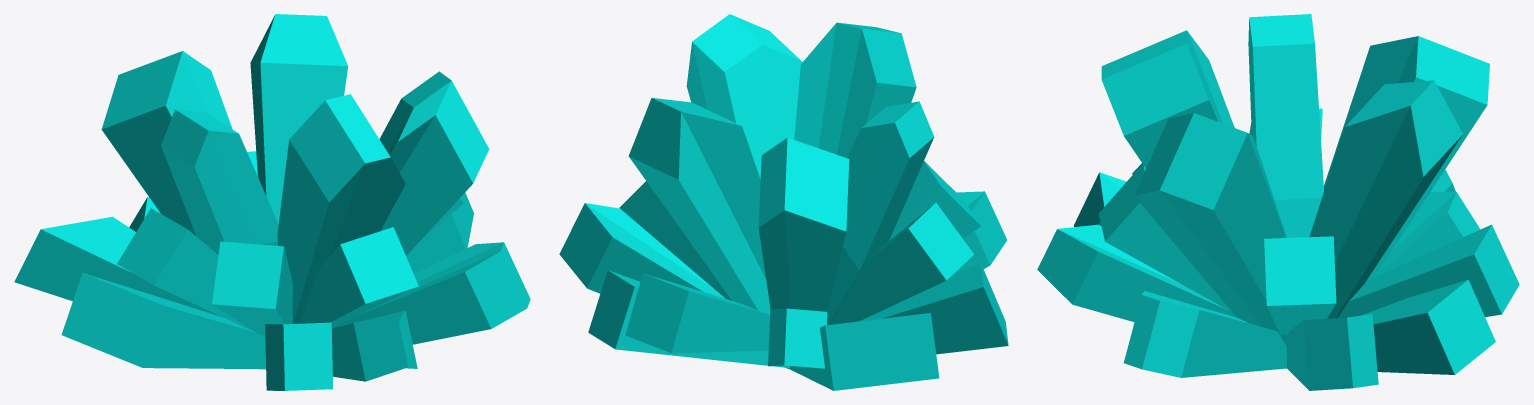
Rendered from mercan3.fbx.
The picture shows the model from 3 angles, left to right: view 1: azimuth 30°, elevation 25°; view 2: azimuth 150°, elevation 25°; view 3: azimuth 270°, elevation 25°; orthographic projection. The views are drawn at different scales.
Parts seen in each view (by area): view 1: mercan3; view 2: mercan3; view 3: mercan3.
Boxes of the visible parts, <box> form: mercan3: <box>14,14,530,390</box>; mercan3: <box>559,14,1008,390</box>; mercan3: <box>1037,14,1519,390</box>.
Size of the model in its own units: 83.41 by 56.34 by 75.63.
